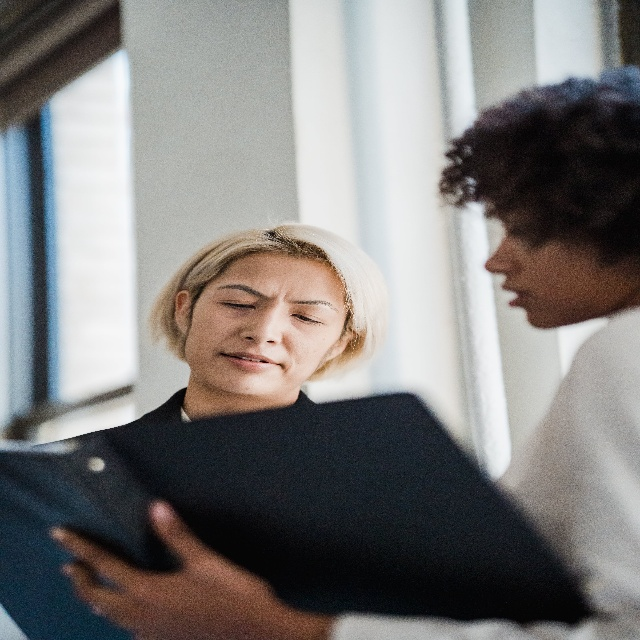Sin_guantes: (49, 499, 280, 640)
